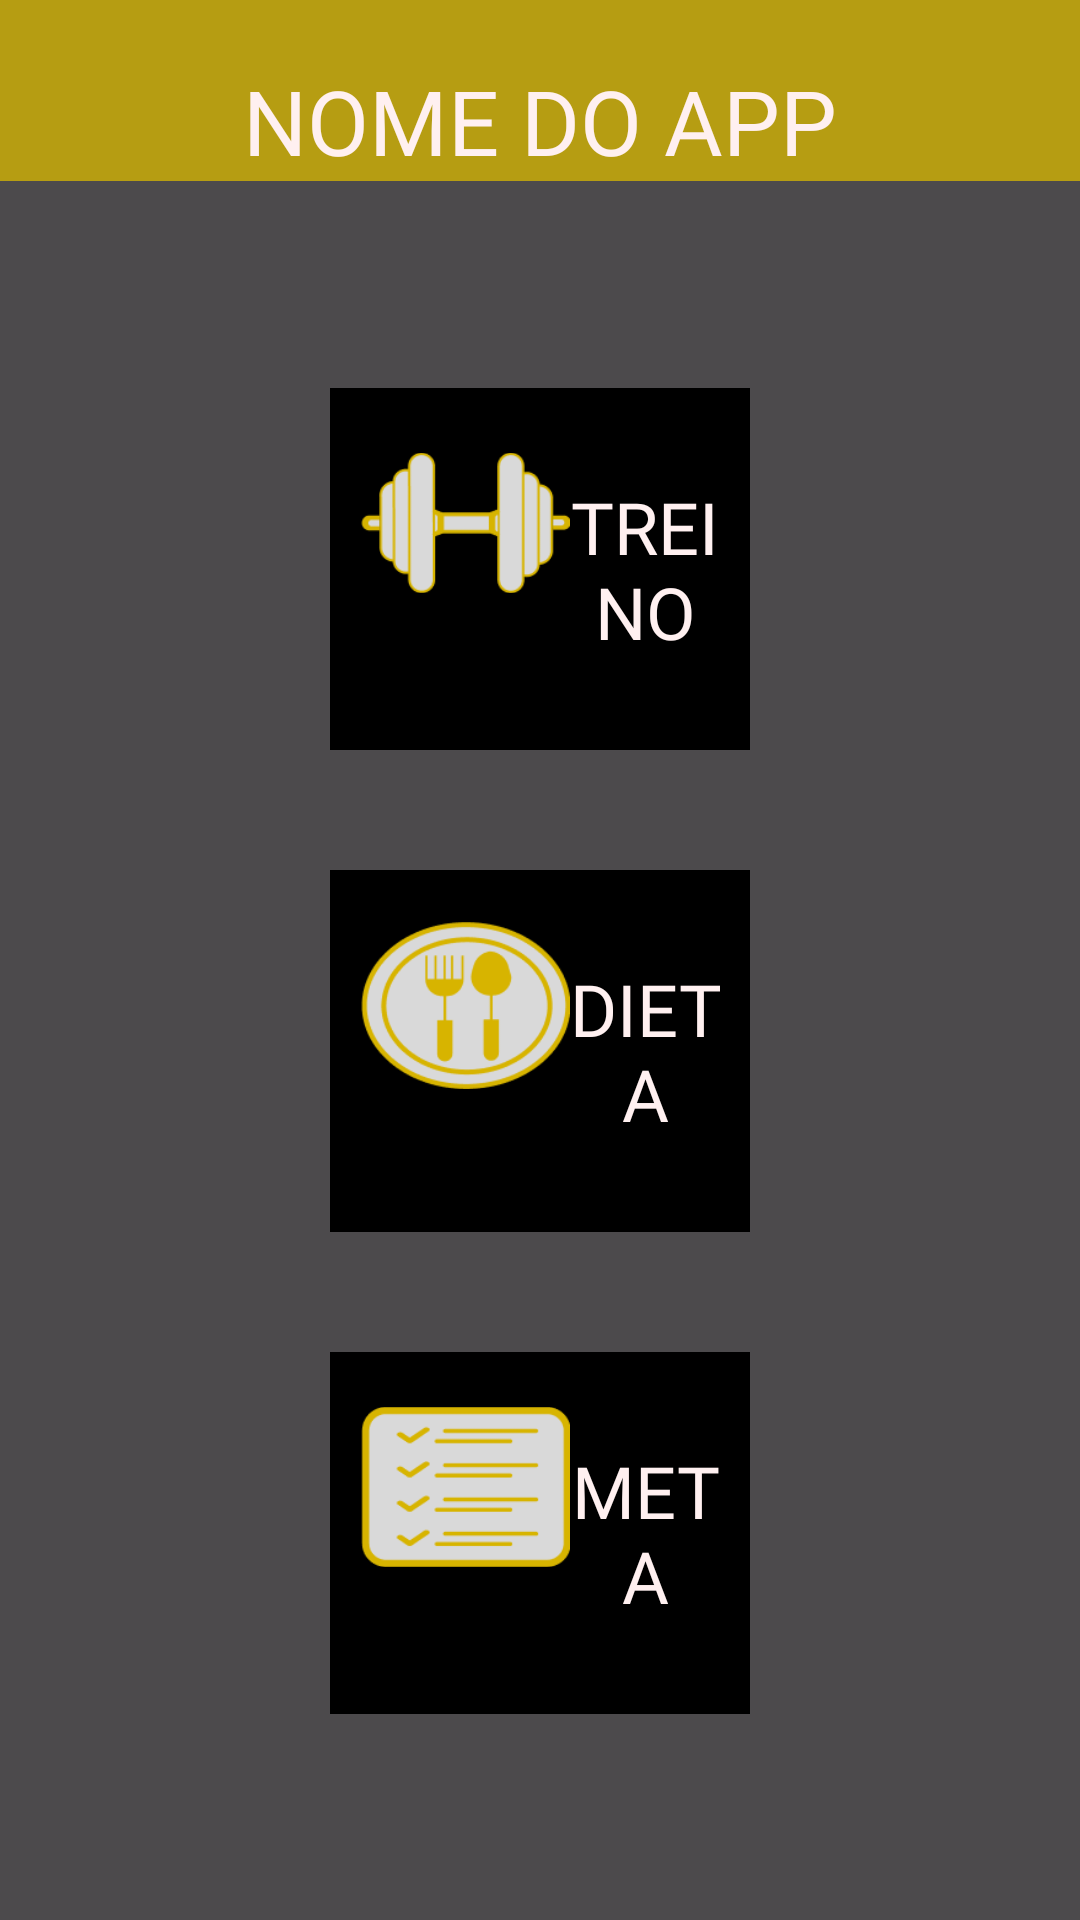

Icon bounding boxes for this 1080×1920 phone screenshot, format rect(x1, y1, x2, y2):
Icone de um alter: rect(361, 453, 570, 593)
